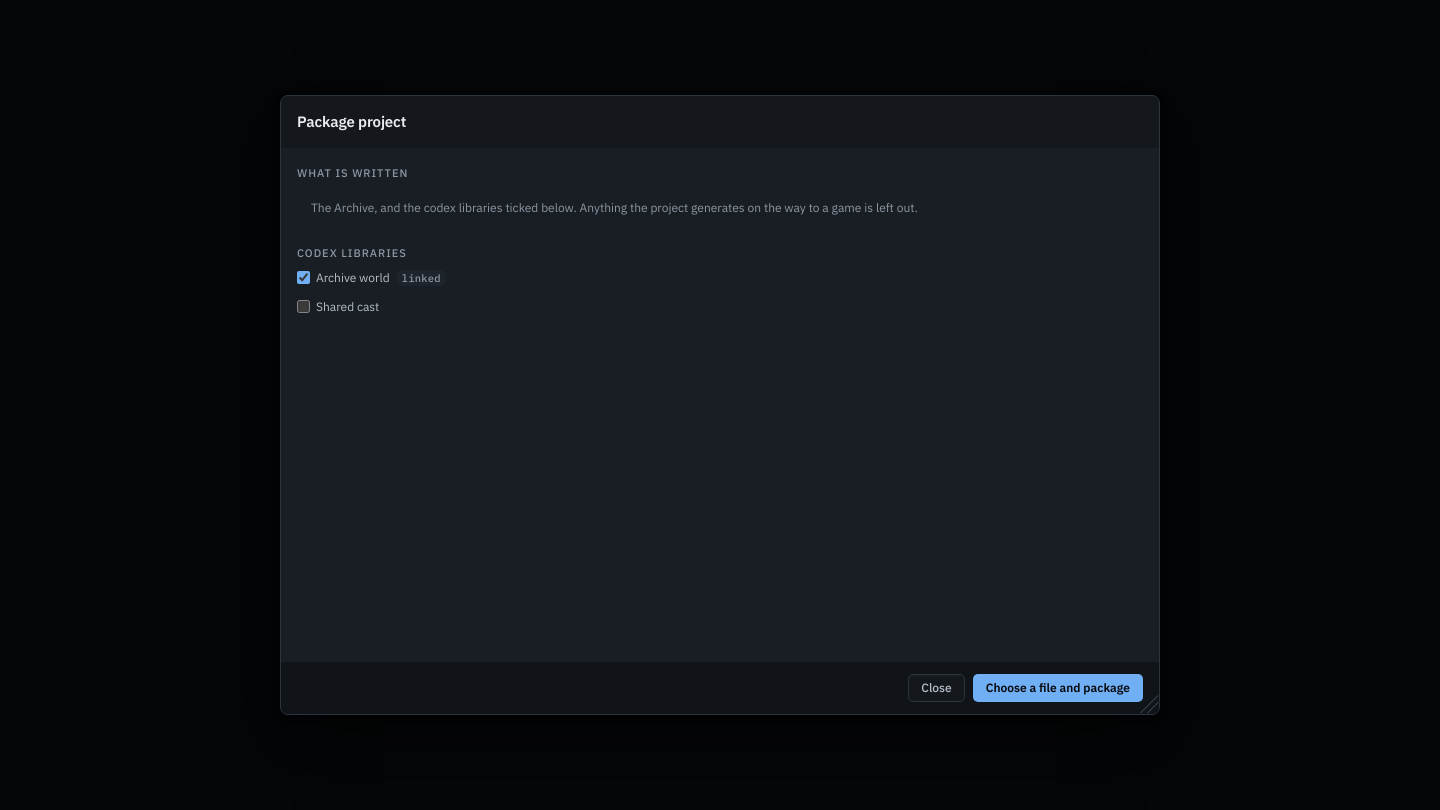
Test case: PackageDialog › says when a linked library is being left out
What coordinates should you click on to do the following:
click the checkbox labelled "Archive world linked"
I would click on:
 (304, 278)
Its box is [297, 271, 310, 284].
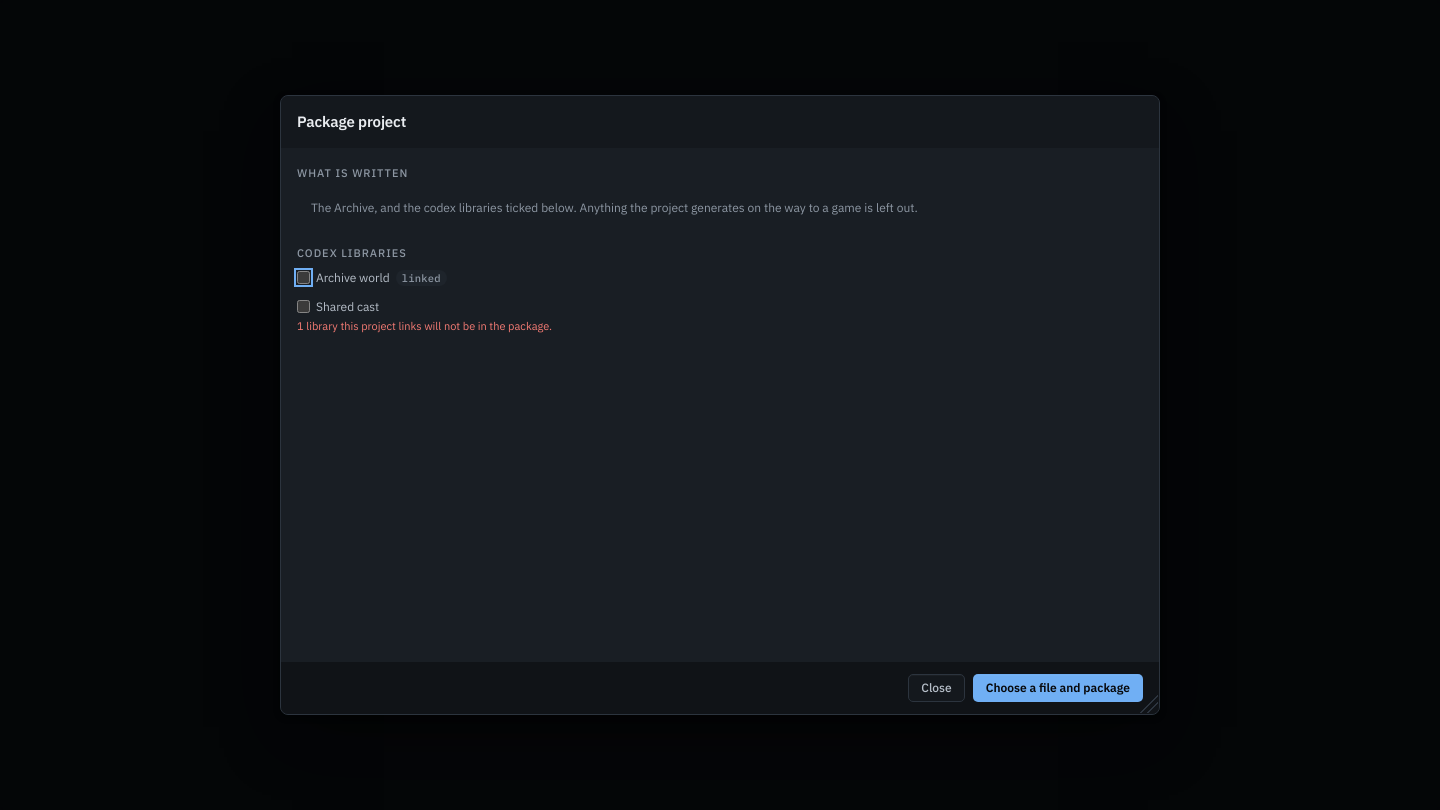
Check: the text "1 library this project links will not be in the package." is shown, box [297, 319, 552, 333]
